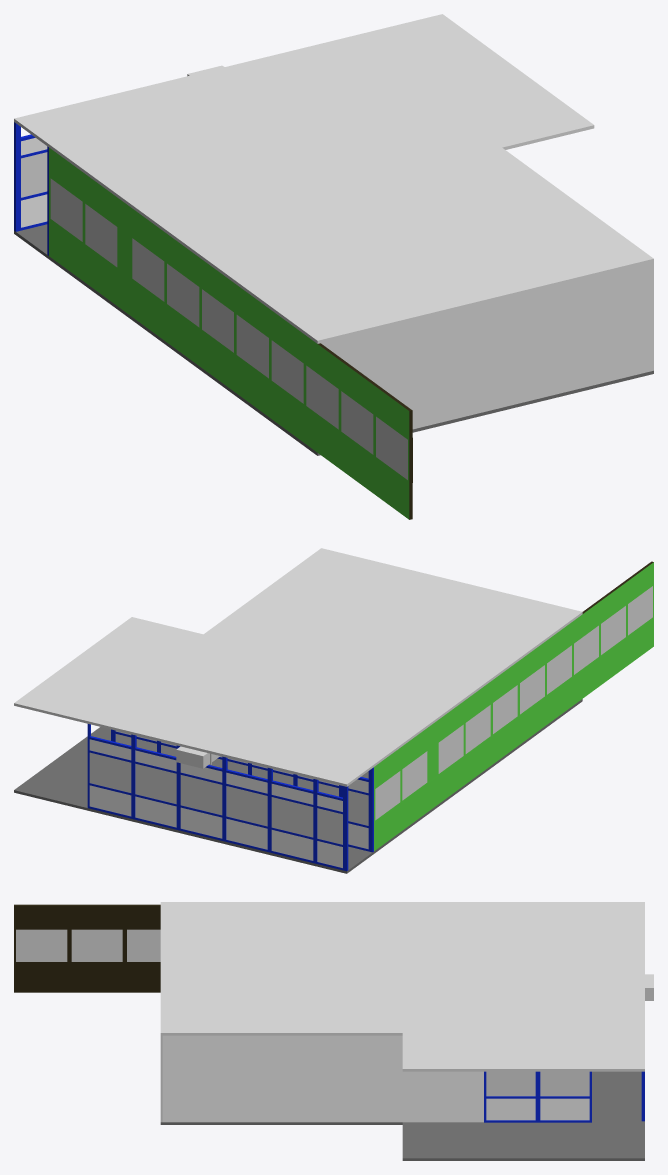
The model's file is Modell2.glb.
The picture shows the model from 3 angles, top to bottom: view 1: azimuth 30°, elevation 25°; view 2: azimuth 150°, elevation 25°; view 3: azimuth 270°, elevation 25°; orthographic projection. The views are drawn at different scales.
Parts seen in each view (by area): view 1: ceiling, window.wall, west, east.001, floor; view 2: ceiling, window.wall, east.001, floor, east, Venti; view 3: ceiling, south_brickwall, window.wall, floor, south.door.left, south.door.right.
Boxes of the visible parts, x1,y1,x2,y2 form: ceiling: [14, 14, 653, 343]; window.wall: [49, 147, 412, 519]; west: [321, 262, 653, 429]; east.001: [14, 122, 47, 231]; floor: [14, 224, 653, 455]; ceiling: [14, 548, 582, 786]; window.wall: [374, 561, 653, 850]; east.001: [87, 724, 348, 871]; floor: [14, 699, 582, 873]; east: [113, 730, 373, 852]; Venti: [176, 746, 220, 768]; ceiling: [160, 902, 644, 1071]; south_brickwall: [162, 1035, 483, 1122]; window.wall: [14, 904, 160, 992]; floor: [160, 1071, 644, 1160]; south.door.left: [538, 1071, 591, 1122]; south.door.right: [484, 1071, 537, 1122].
Bounding box in the file's own units: 13.61 × 3.5 × 22.07.
